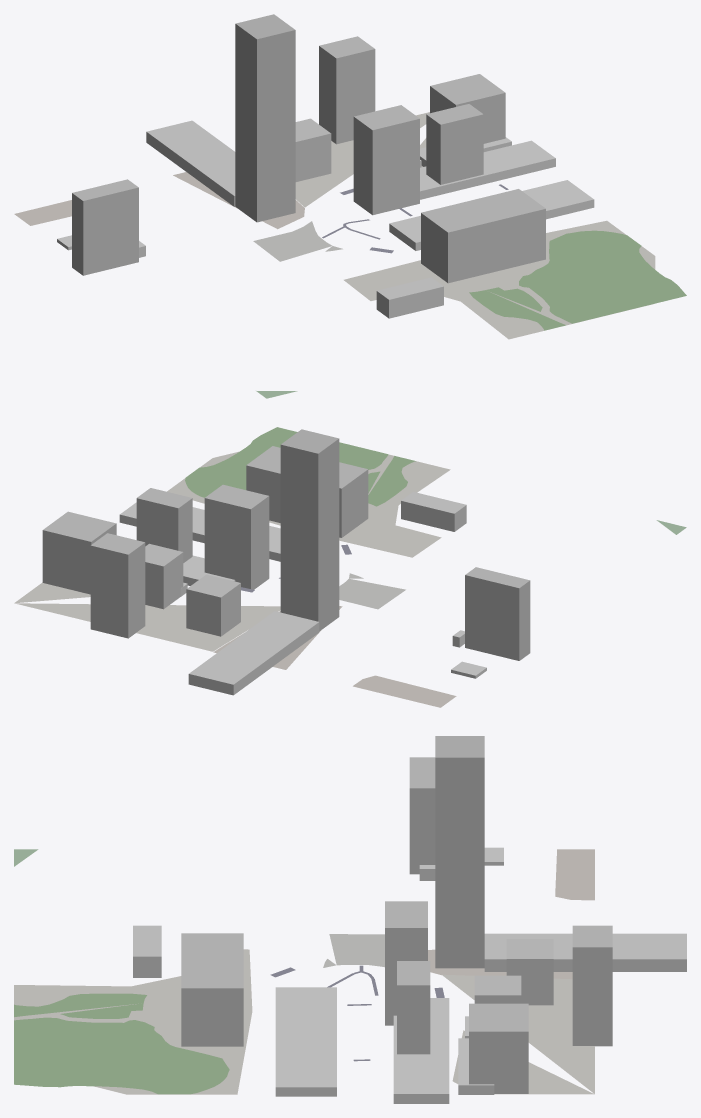
File: 120_78_mid.glb
3 renders of one model, top to bottom at view 1: azimuth 30°, elevation 25°; view 2: azimuth 150°, elevation 25°; view 3: azimuth 270°, elevation 25°, orthographic. The views are drawn at different scales.
Bounding box in the file's own units: 532 × 200 × 579.
